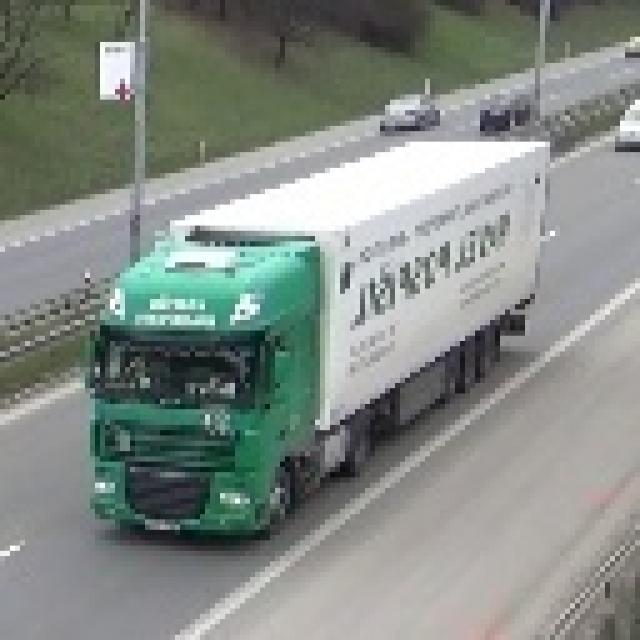TRUCK: (79, 142, 543, 548)
